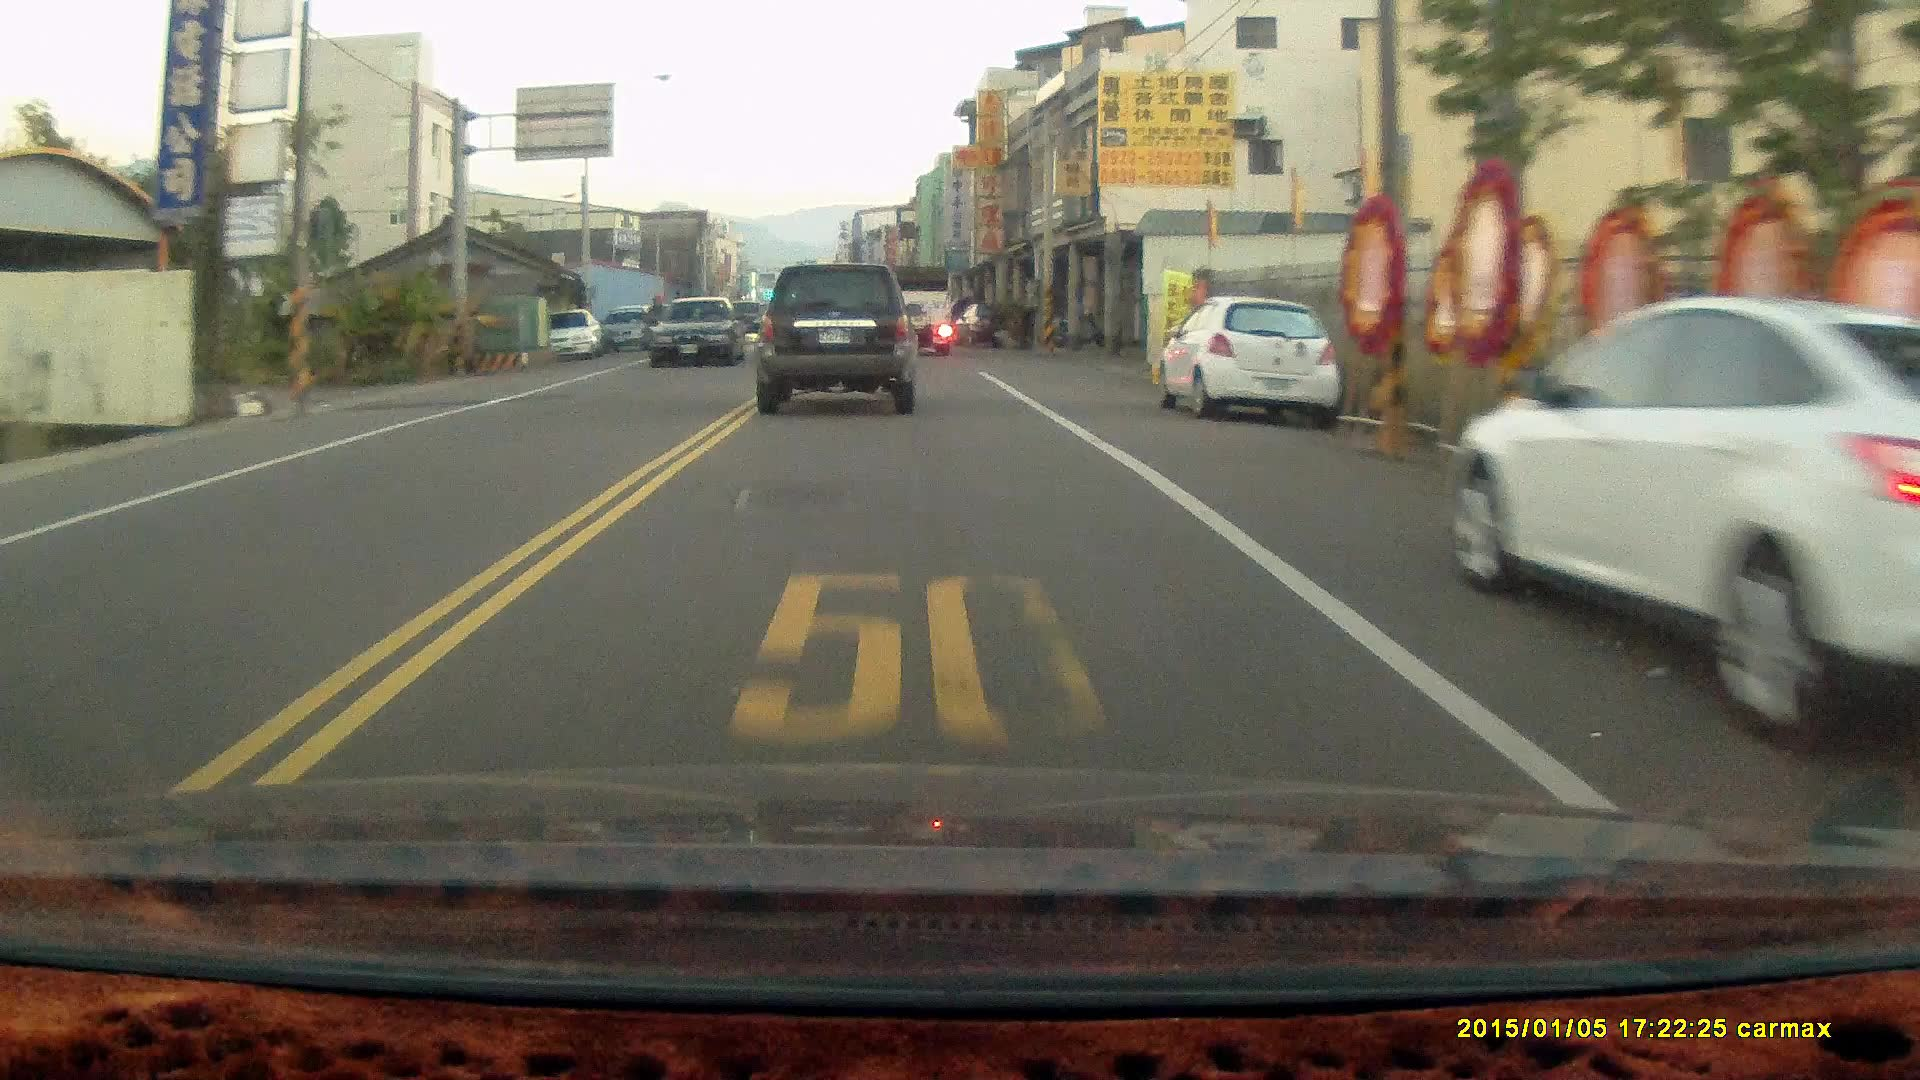vehicle: (1443, 293, 1920, 756), (752, 260, 919, 413), (1160, 295, 1337, 431), (650, 293, 750, 369), (884, 261, 959, 356), (527, 307, 607, 360)
